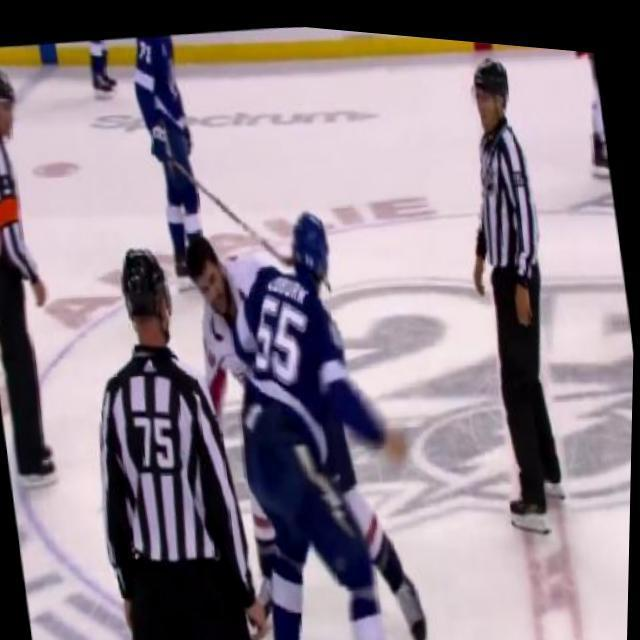fight: (173, 186, 447, 640)
